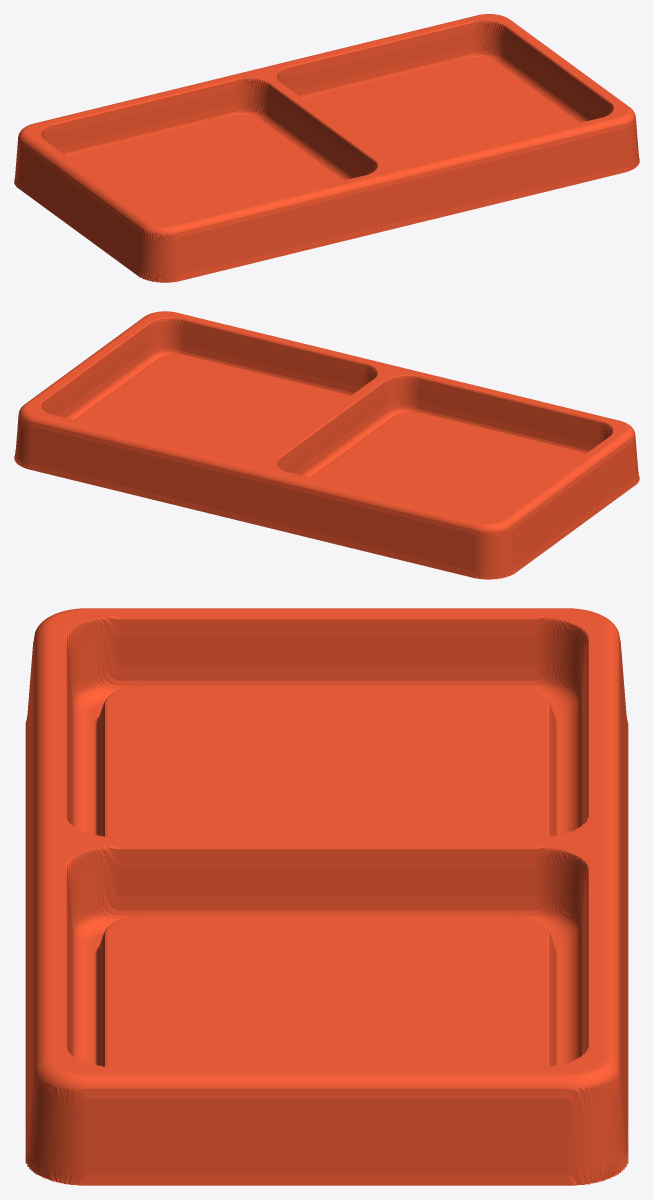
Rendered from mold.glb.
3 renders of one model, top to bottom at view 1: azimuth 30°, elevation 25°; view 2: azimuth 150°, elevation 25°; view 3: azimuth 270°, elevation 25°, orthographic. The views are drawn at different scales.
Visible parts, largest first — view 1: geometry_0; view 2: geometry_0; view 3: geometry_0.
Part boxes in pixels (x1,y1,x2,y2): geometry_0: [14, 14, 639, 282]; geometry_0: [14, 311, 639, 579]; geometry_0: [25, 608, 628, 1185].
Bounding box in the file's own units: 0.1688 × 0.0165 × 0.0887.
